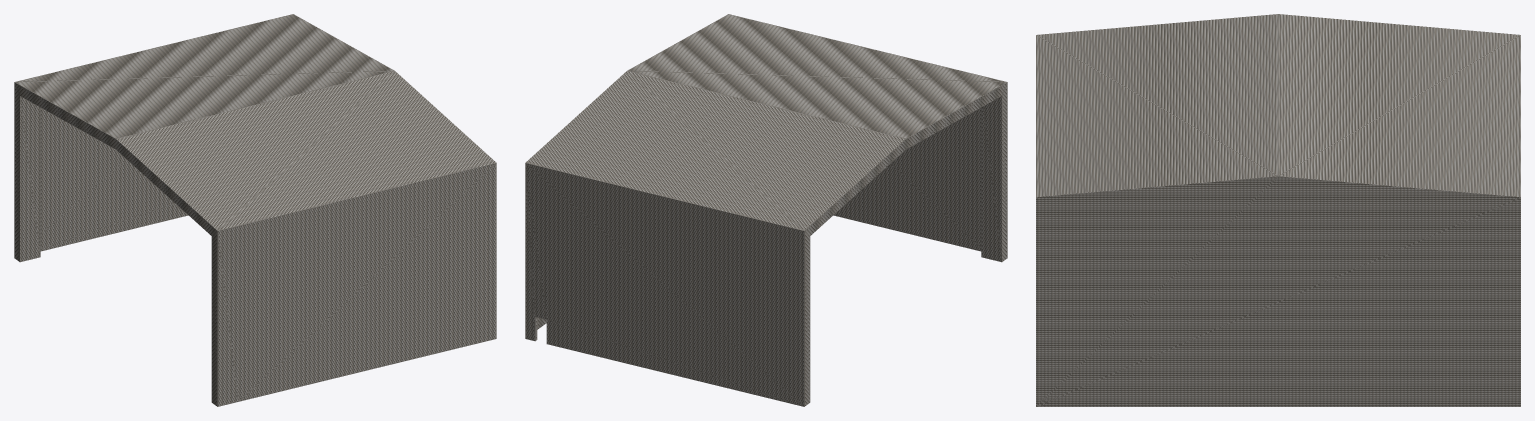
The model's file is L2Hnagar2.fbx.
3 views of the same model, side by side, from view 1: azimuth 30°, elevation 25°; view 2: azimuth 150°, elevation 25°; view 3: azimuth 270°, elevation 25° (orthographic). The views are drawn at different scales.
Parts seen in each view (by area): view 1: Hangar2; view 2: Hangar2; view 3: Hangar2.
Part boxes in pixels (x1,y1,x2,y2): Hangar2: (14, 14, 496, 406); Hangar2: (525, 14, 1007, 406); Hangar2: (1036, 14, 1520, 406).
Size of the model in its own units: 54.74 by 36.26 by 69.11.
